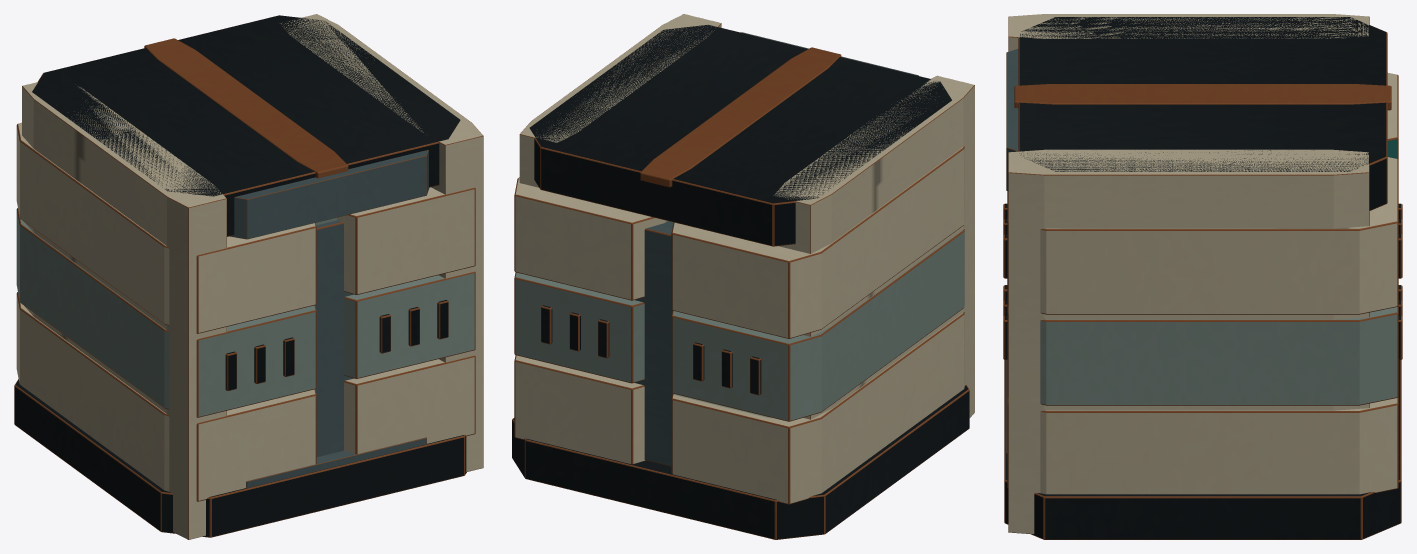
Rendered from Archive_MeshLibrary.fbx.
3 renders of one model, left to right at view 1: azimuth 30°, elevation 25°; view 2: azimuth 150°, elevation 25°; view 3: azimuth 270°, elevation 25°, orthographic. The views are drawn at different scales.
Visible parts, largest first — view 1: ArchiveCover, ArchiveServiceRack; view 2: ArchiveCover, ArchiveServiceRack; view 3: ArchiveCover, ArchiveServiceRack.
Part boxes in pixels (<box>): ArchiveCover: <box>14,15,475,537</box>; ArchiveServiceRack: <box>22,14,483,539</box>; ArchiveCover: <box>512,24,969,539</box>; ArchiveServiceRack: <box>519,14,974,419</box>; ArchiveCover: <box>1003,17,1402,539</box>; ArchiveServiceRack: <box>1006,14,1369,534</box>.
Bounding box in the file's own units: 99 × 99.75 × 99.4.
